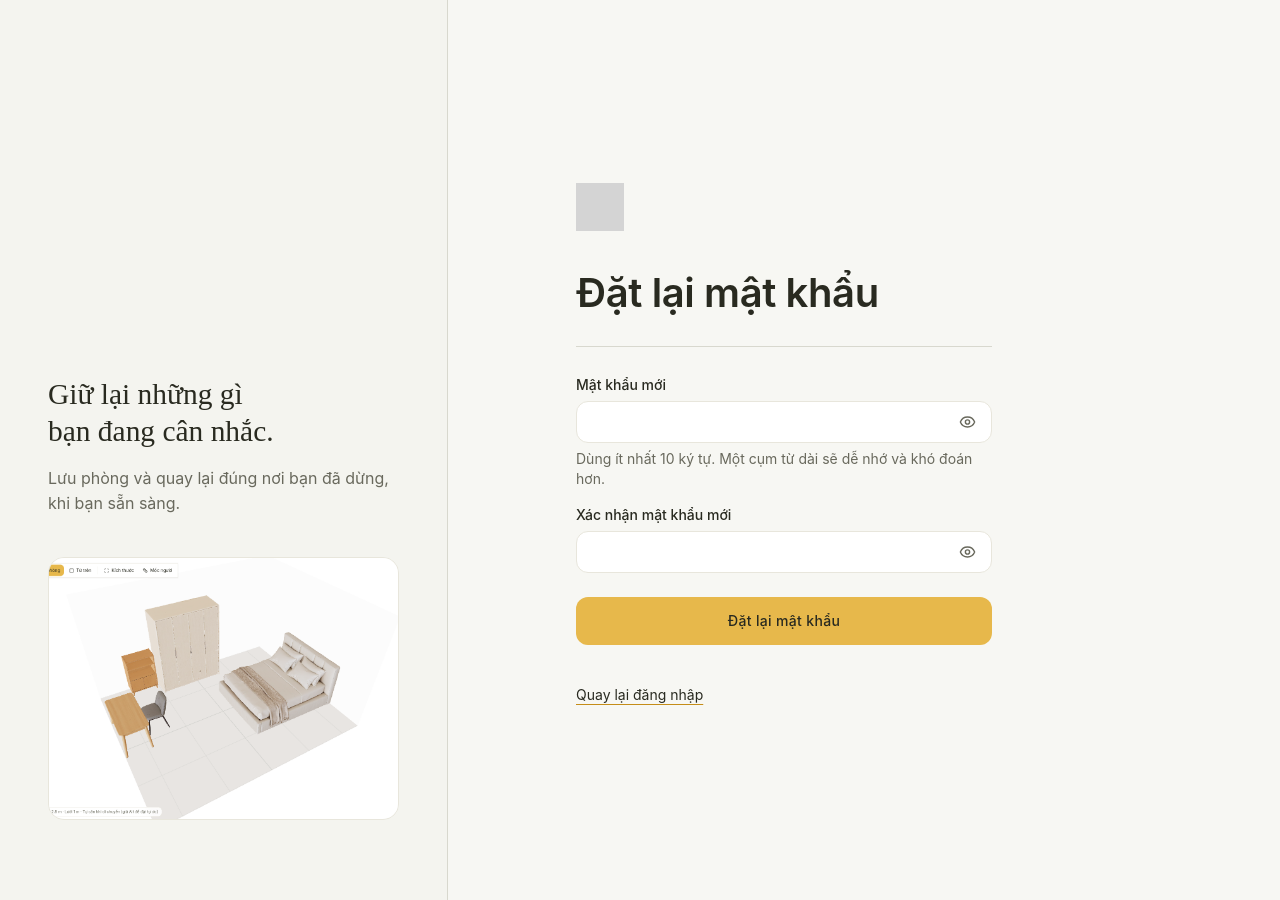
Test: ResetPasswordPage › shows an error message when the token is invalid/expired
Type "password1234" into the password field labelled "Mật khẩu mới" at (784, 422), box x1=576 y1=401 x2=992 y2=443
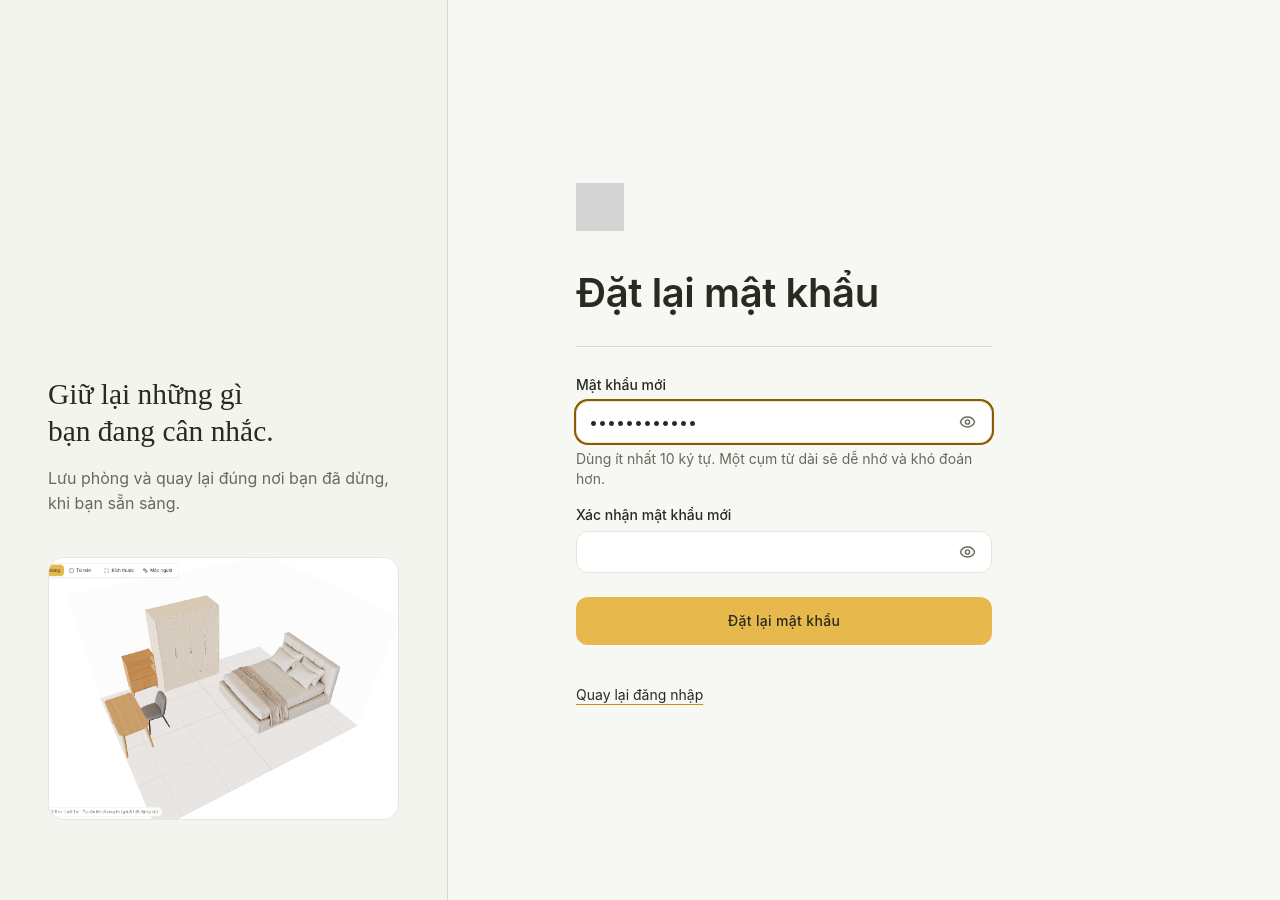
Type "password1234" into the password field labelled "Xác nhận mật khẩu mới" at (784, 552), box x1=576 y1=531 x2=992 y2=573
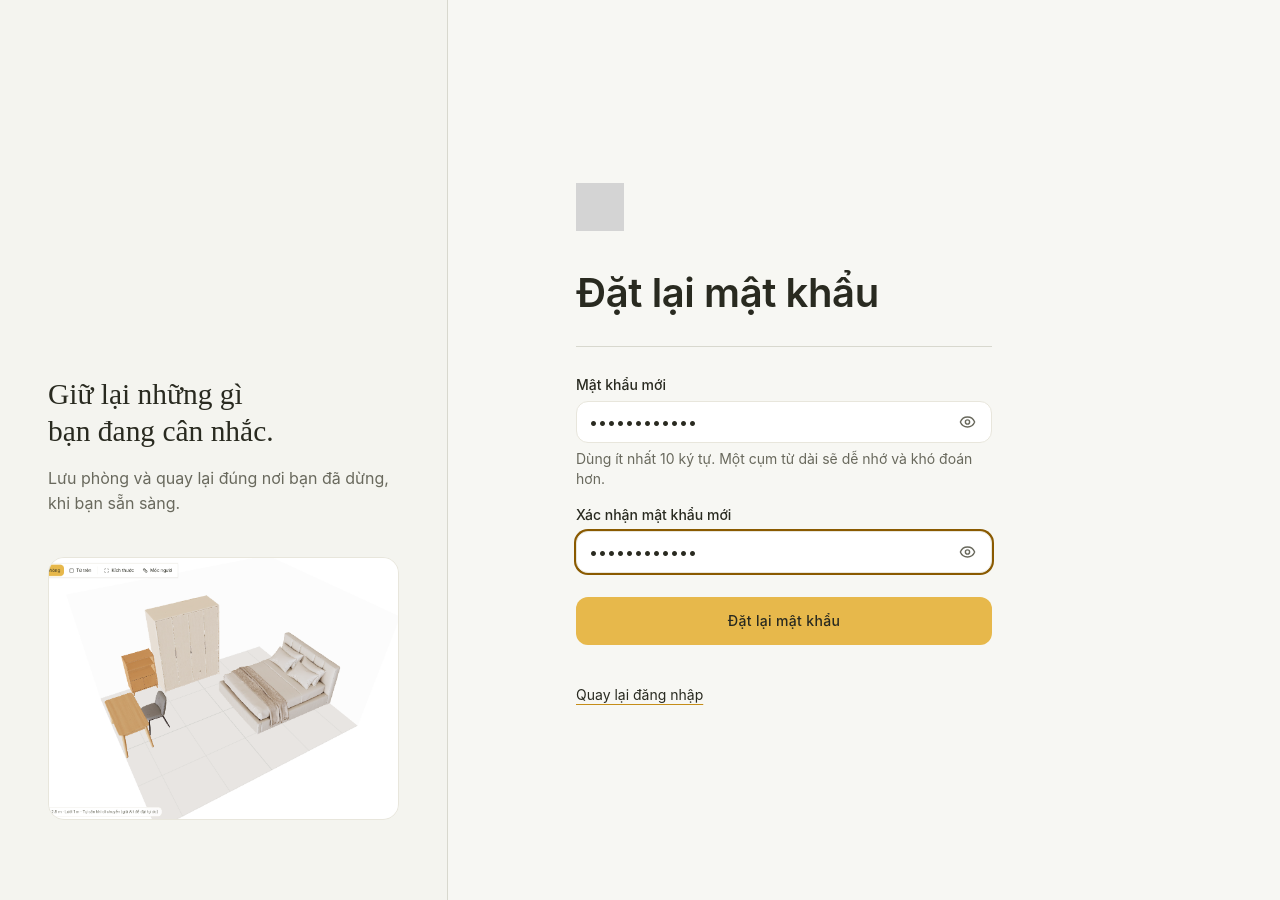
Click the button "Đặt lại mật khẩu" at (784, 621), box x1=576 y1=597 x2=992 y2=645
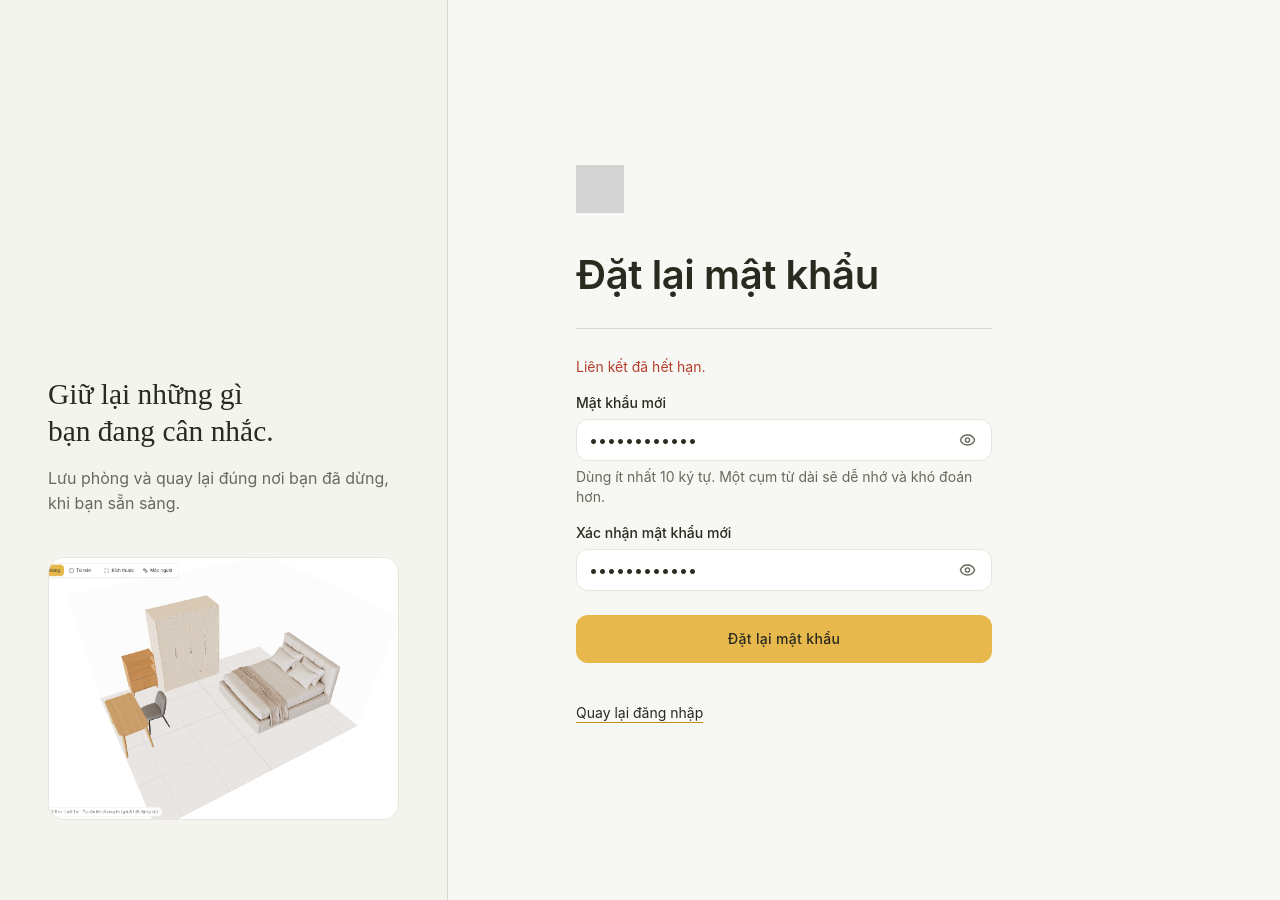
Now the text "Liên kết đã hết hạn." is shown, box x1=576 y1=358 x2=706 y2=375
